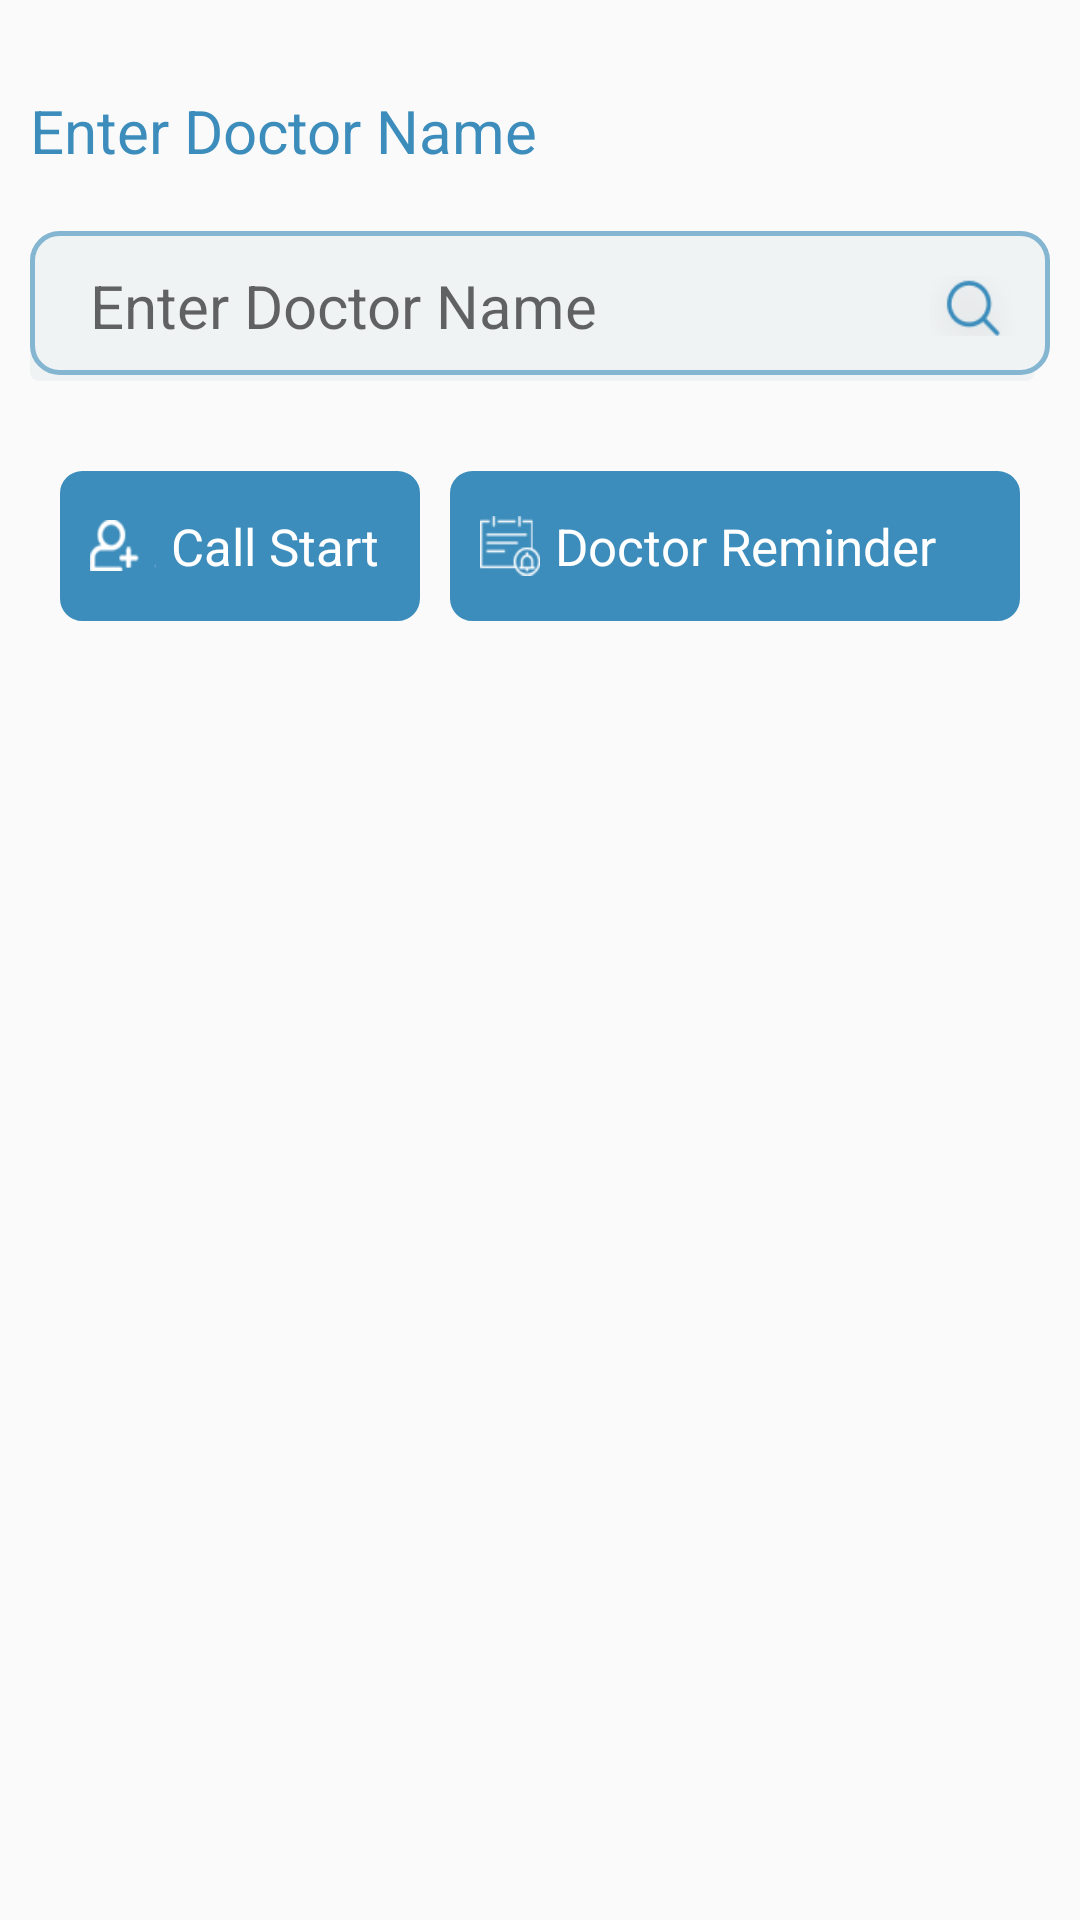

Where icons sit on this 1080 x 1920 app screen, as (x1, y1, x2, y2):
add chemist: (90, 520, 156, 571)
search: (946, 280, 1000, 336)
